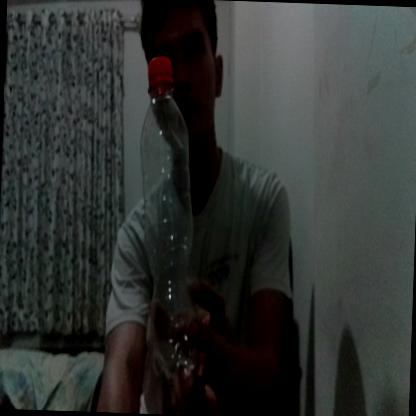plastic_bottles: (134, 54, 208, 380)
